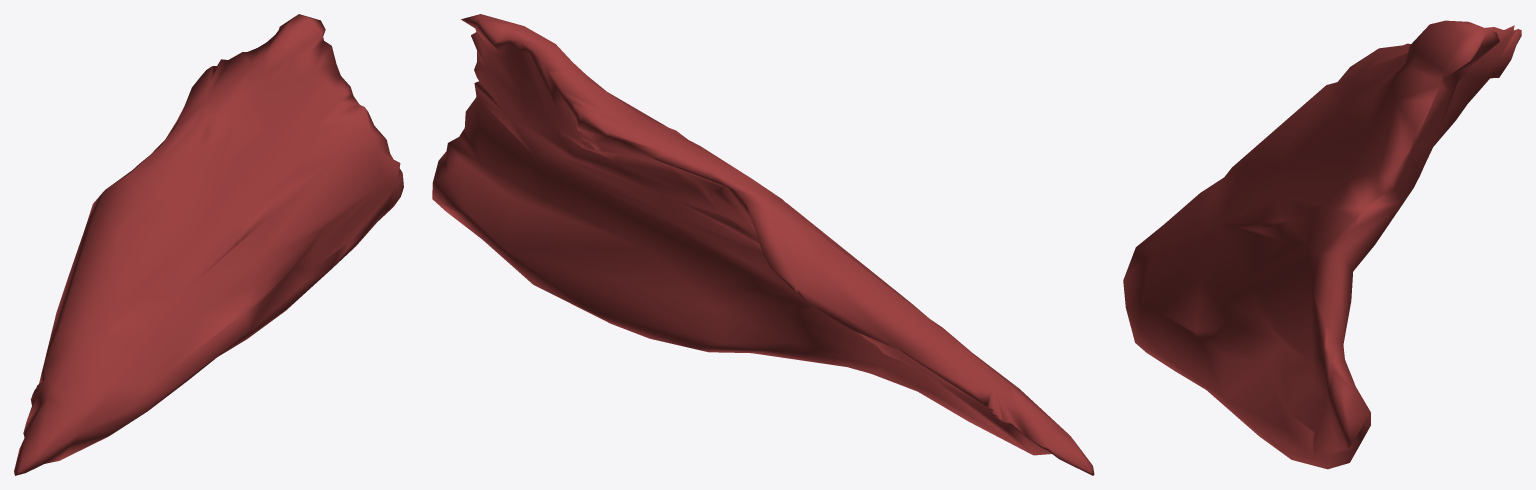
Rendered from deep-head-of-flexor-pollicis-brevis-r.glb.
3 views of the same model, side by side, from view 1: azimuth 30°, elevation 25°; view 2: azimuth 150°, elevation 25°; view 3: azimuth 270°, elevation 25° (orthographic). The views are drawn at different scales.
Parts seen in each view (by area): view 1: Deep head of flexor pollicis brevis.r; view 2: Deep head of flexor pollicis brevis.r; view 3: Deep head of flexor pollicis brevis.r.
Part boxes in pixels (x1=…): Deep head of flexor pollicis brevis.r: x1=14, y1=14, x2=403, y2=475; Deep head of flexor pollicis brevis.r: x1=432, y1=14, x2=1094, y2=475; Deep head of flexor pollicis brevis.r: x1=1123, y1=20, x2=1521, y2=469.
Bounding box in the file's own units: 0.0494 × 0.0333 × 0.0194.
